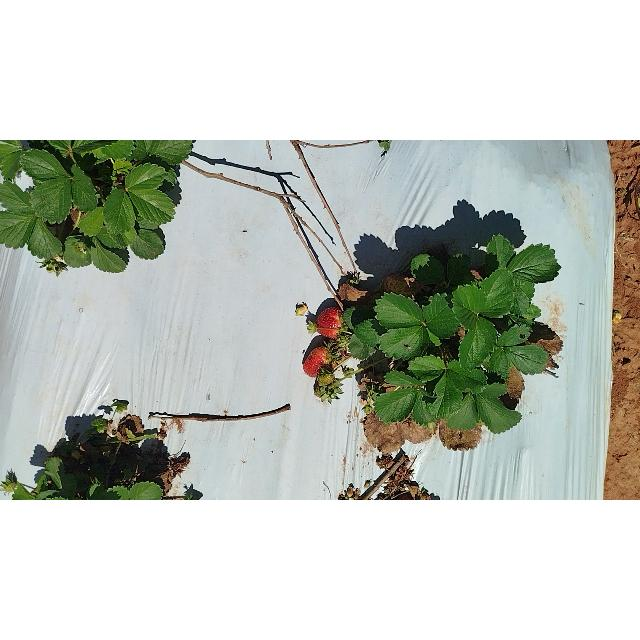maduro: (316, 306, 342, 338), (301, 346, 327, 376)
no-maduro: (318, 374, 332, 386)
